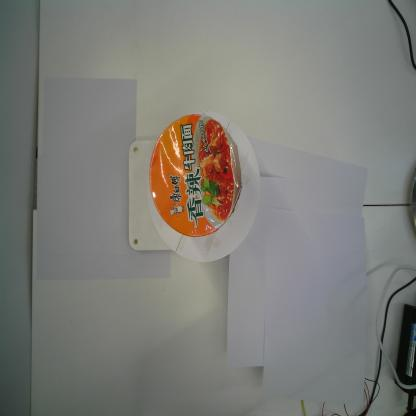Instant Noodles: (148, 112, 243, 240)
